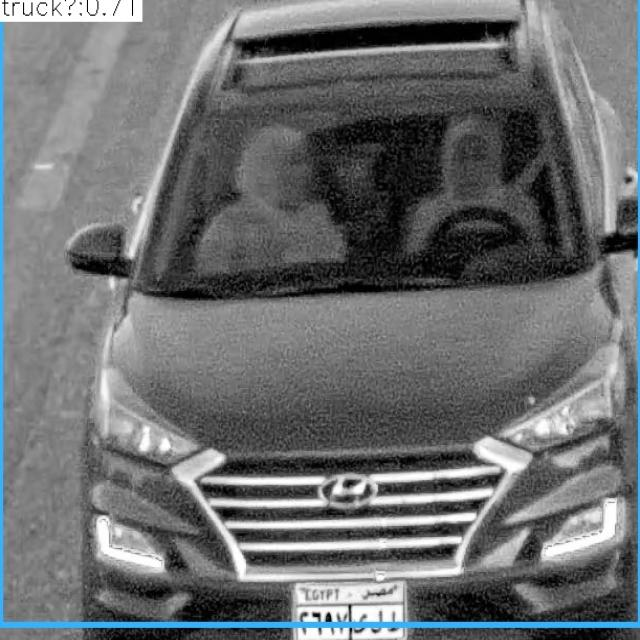windshield: (137, 98, 594, 276)
